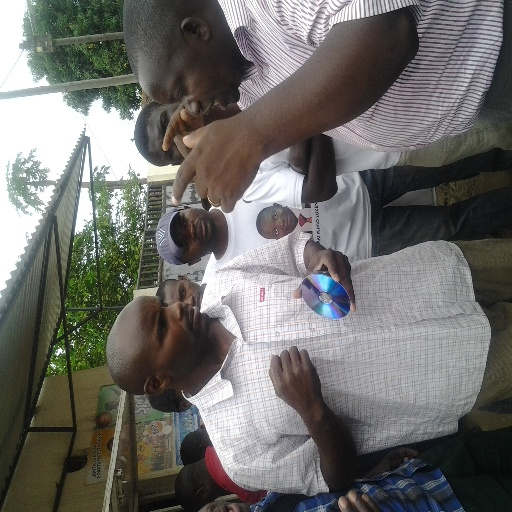hand: (169, 117, 256, 213), (264, 358, 342, 442), (291, 243, 358, 314), (159, 103, 206, 159), (373, 445, 421, 476), (336, 489, 382, 511), (286, 153, 308, 176)
